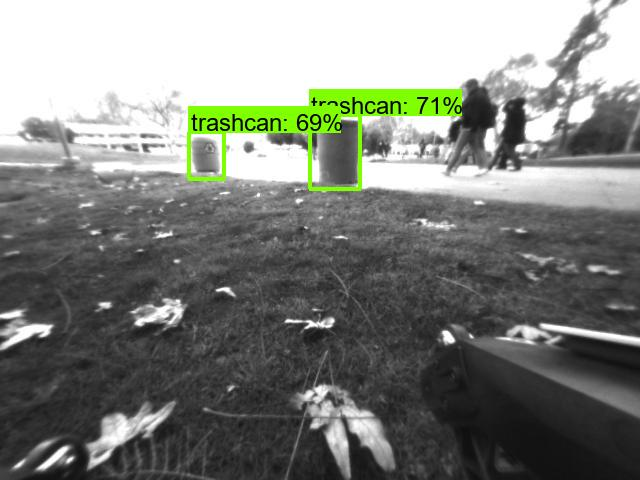trashcan: (318, 118, 361, 186), (191, 136, 222, 179)
